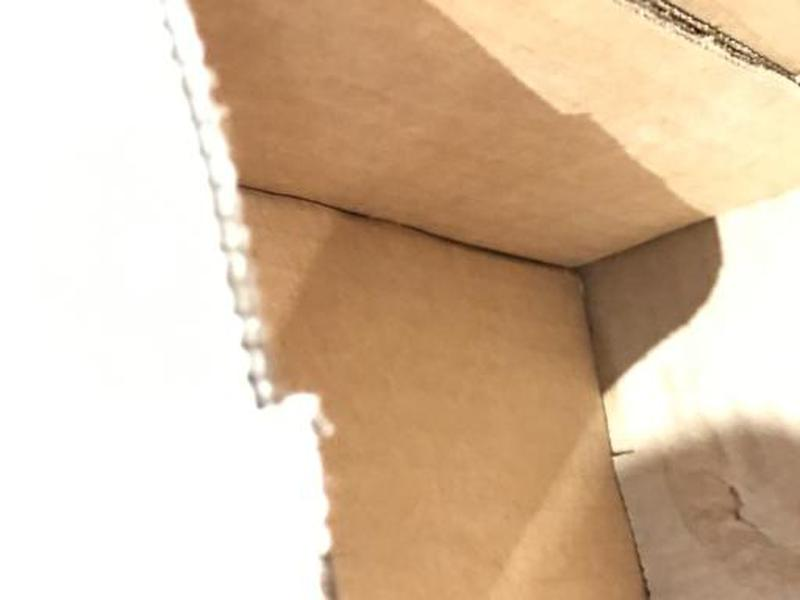cardboard: (153, 2, 800, 600)
